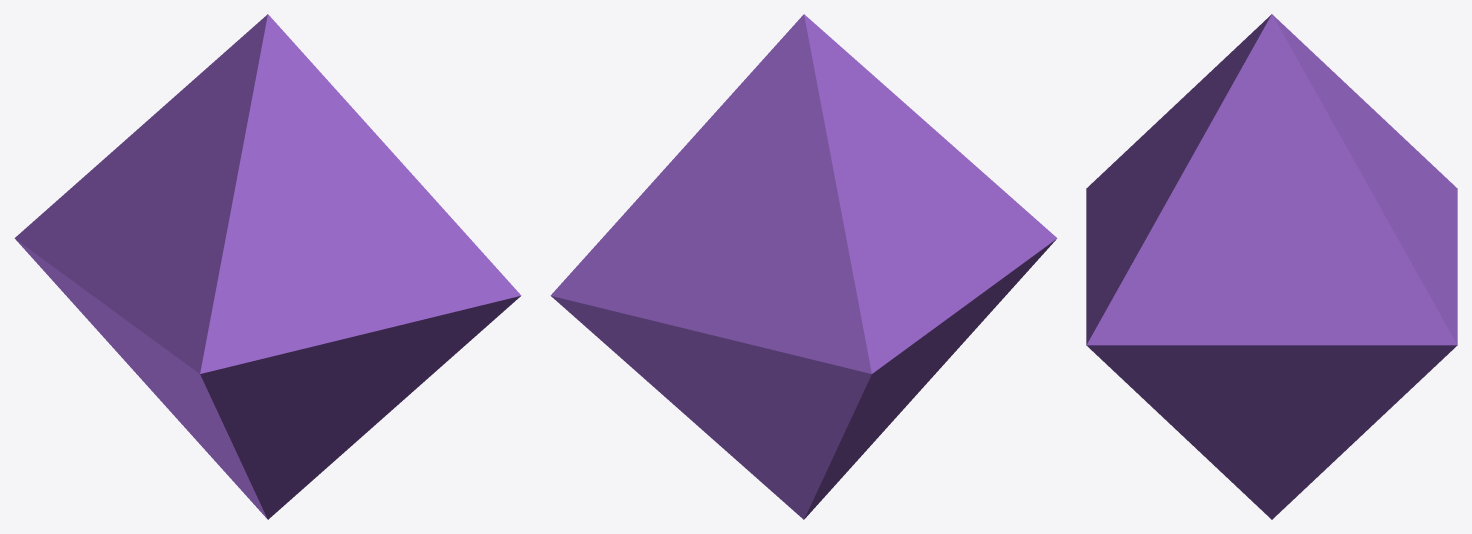
File: Amethyst.fbx
3 renders of one model, left to right at view 1: azimuth 30°, elevation 25°; view 2: azimuth 150°, elevation 25°; view 3: azimuth 270°, elevation 25°, orthographic.
Parts seen in each view (by area): view 1: Amethyst; view 2: Amethyst; view 3: Amethyst.
Part boxes in pixels (x1,y1,x2,y2): Amethyst: (14, 14, 521, 519); Amethyst: (550, 14, 1057, 519); Amethyst: (1086, 14, 1457, 519).
Size of the model in its own units: 32.1 by 48.28 by 32.1.
